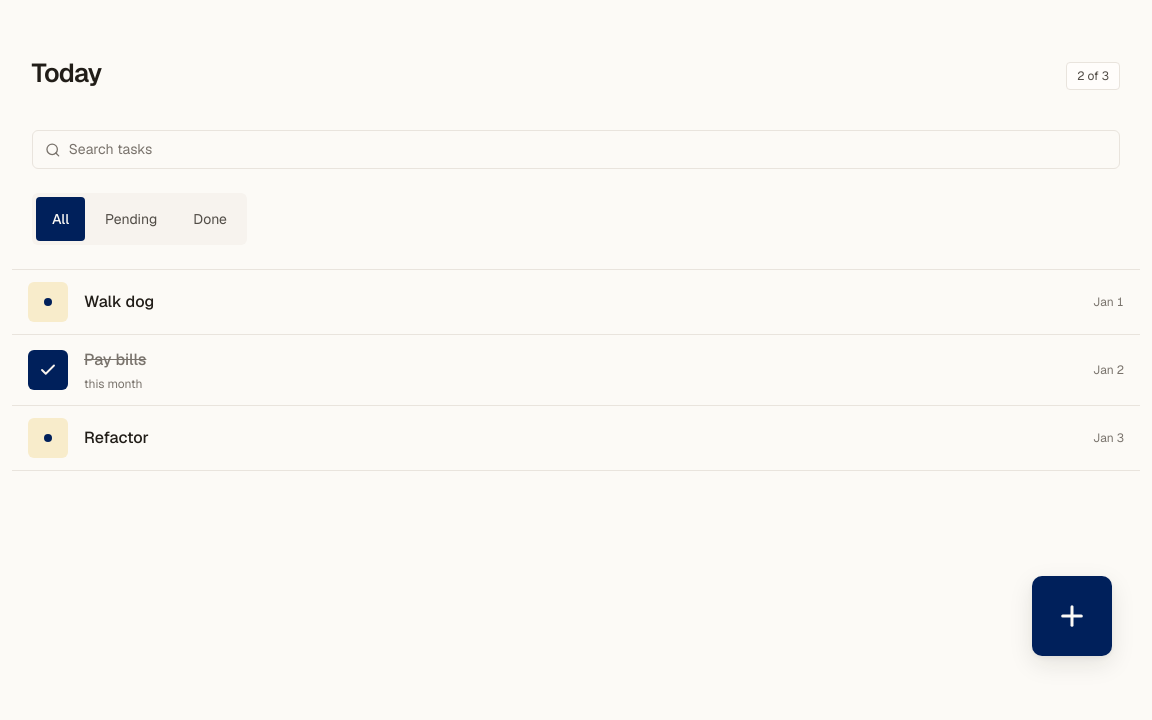
Test case: HomePage › filters: pending hides completed
What coordinates should you click on to do the following:
click the tab "Pending"
I would click on:
 (131, 219)
Its box is [89,197,173,241].
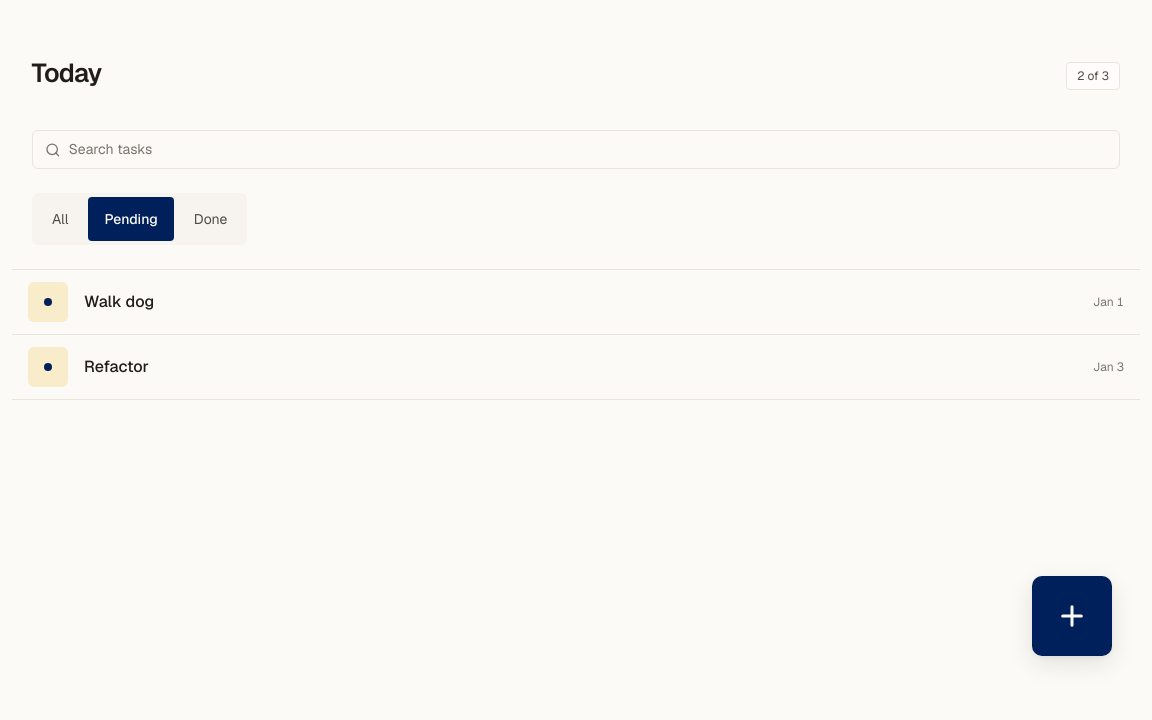
Check: the text "Walk dog" is shown, box [84,291,154,312]
Check: the link "Pay bills" is gone
